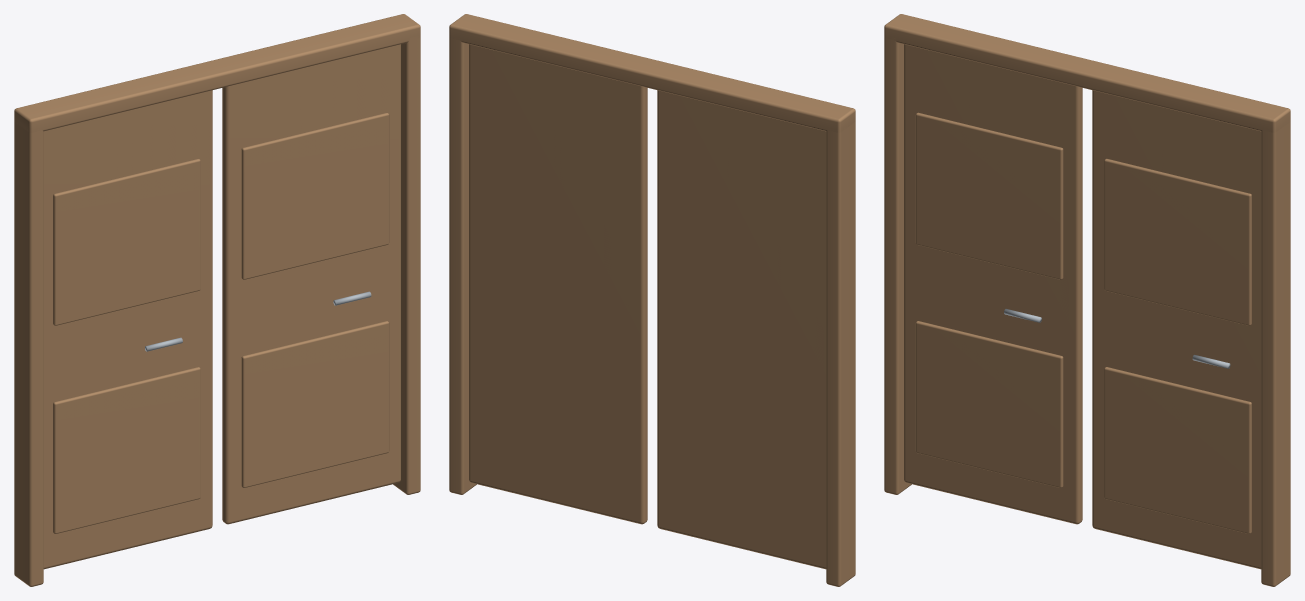
File: atelier-double-door.glb
3 views of the same model, side by side, from view 1: azimuth 30°, elevation 25°; view 2: azimuth 150°, elevation 25°; view 3: azimuth 330°, elevation 25° (orthographic).
Visible parts, largest first — view 1: legs.244; view 2: legs.244; view 3: legs.244.
Part boxes in pixels (x1,y1,x2,y2): legs.244: (14,14,420,586); legs.244: (449,14,855,586); legs.244: (884,14,1290,586).
Bounding box in the file's own units: 1.87 × 2.13 × 0.14.
